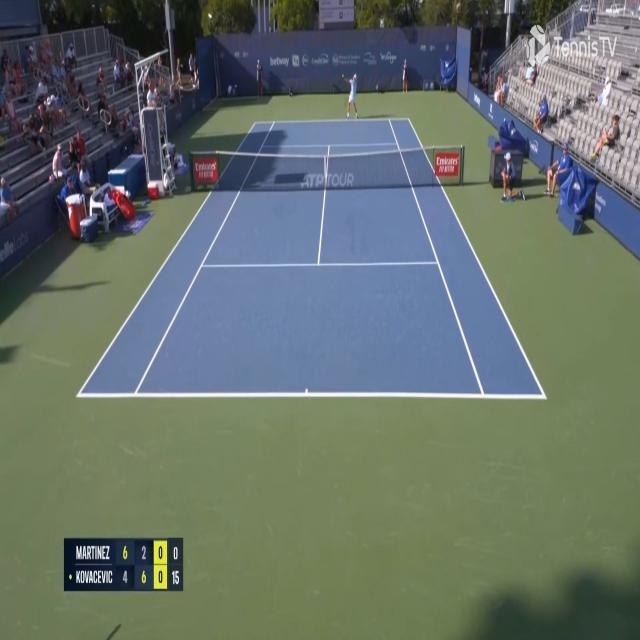tennis-player: (341, 69, 361, 123)
